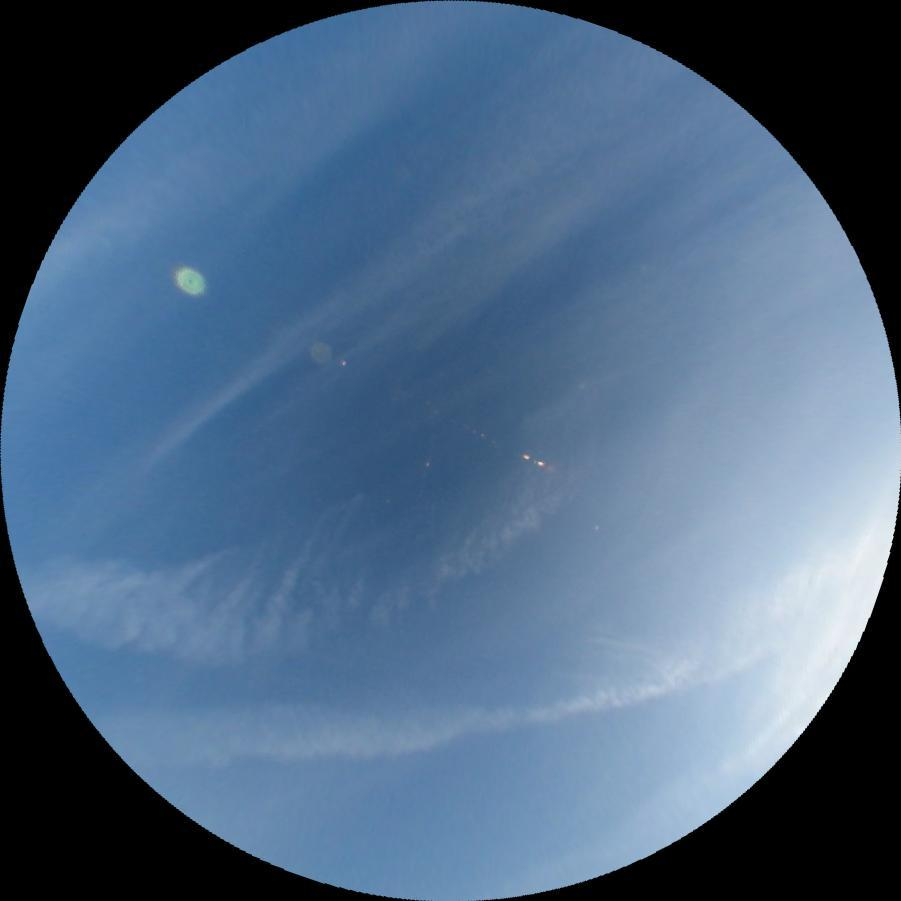contrail veryold: (13, 378, 654, 725), (93, 593, 770, 812)
